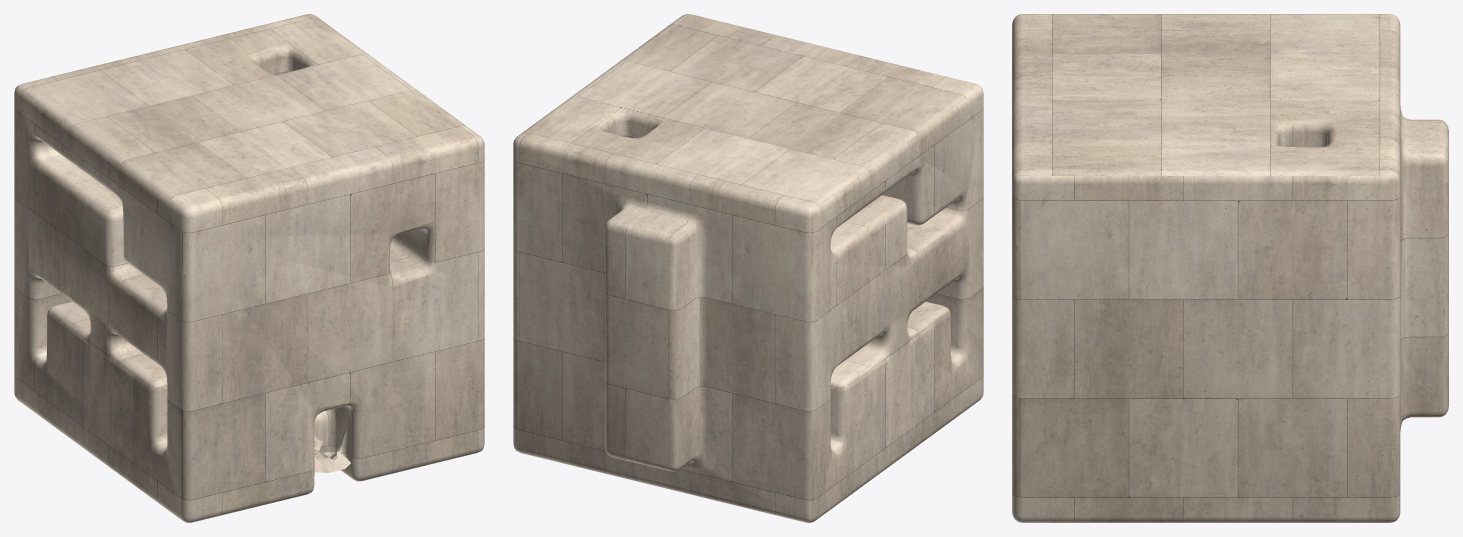
Rendered from cuber.glb.
The picture shows the model from 3 angles, left to right: view 1: azimuth 30°, elevation 25°; view 2: azimuth 150°, elevation 25°; view 3: azimuth 270°, elevation 25°; orthographic projection. The views are drawn at different scales.
Visible parts, largest first — view 1: Cube; view 2: Cube; view 3: Cube.
Boxes of the visible parts, x1=… form: Cube: x1=14, y1=14, x2=484, y2=522; Cube: x1=513, y1=14, x2=983, y2=522; Cube: x1=1012, y1=14, x2=1448, y2=522.
Bounding box in the file's own units: 48.02 × 48.02 × 54.02.
Materials: 3 (2 with a texture image).
